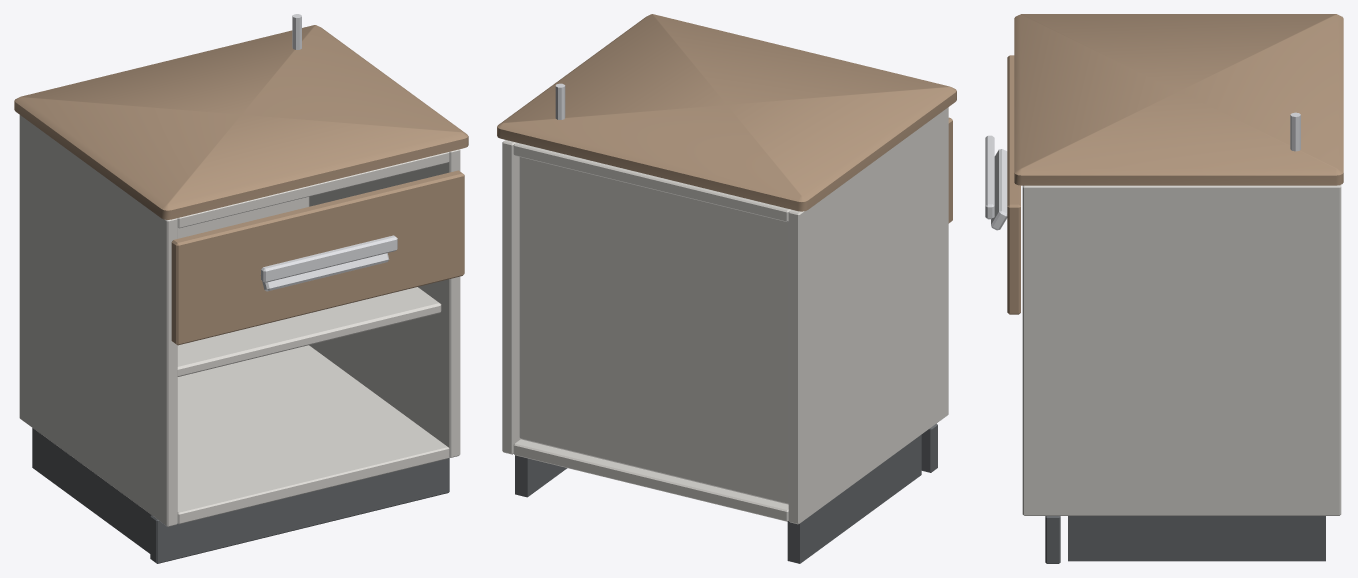
Rendered from hotel-and-resort-operations-nightstand-621f630f__25737.glb.
The picture shows the model from 3 angles, left to right: view 1: azimuth 30°, elevation 25°; view 2: azimuth 150°, elevation 25°; view 3: azimuth 270°, elevation 25°; orthographic projection. The views are drawn at different scales.
Parts seen in each view (by area): view 1: nightstand, drawer-top/surface, drawer-top/metal; view 2: nightstand; view 3: nightstand, drawer-top/surface, drawer-top/metal.
Boxes of the visible parts, x1,y1,x2,y2 form: nightstand: (14, 14, 468, 563); drawer-top/surface: (171, 170, 464, 345); drawer-top/metal: (260, 235, 397, 291); nightstand: (497, 14, 956, 563); nightstand: (1014, 14, 1343, 563); drawer-top/surface: (1007, 55, 1020, 314); drawer-top/metal: (985, 135, 1007, 230).
Bounding box in the file's own units: 0.5 × 0.626 × 0.472.
